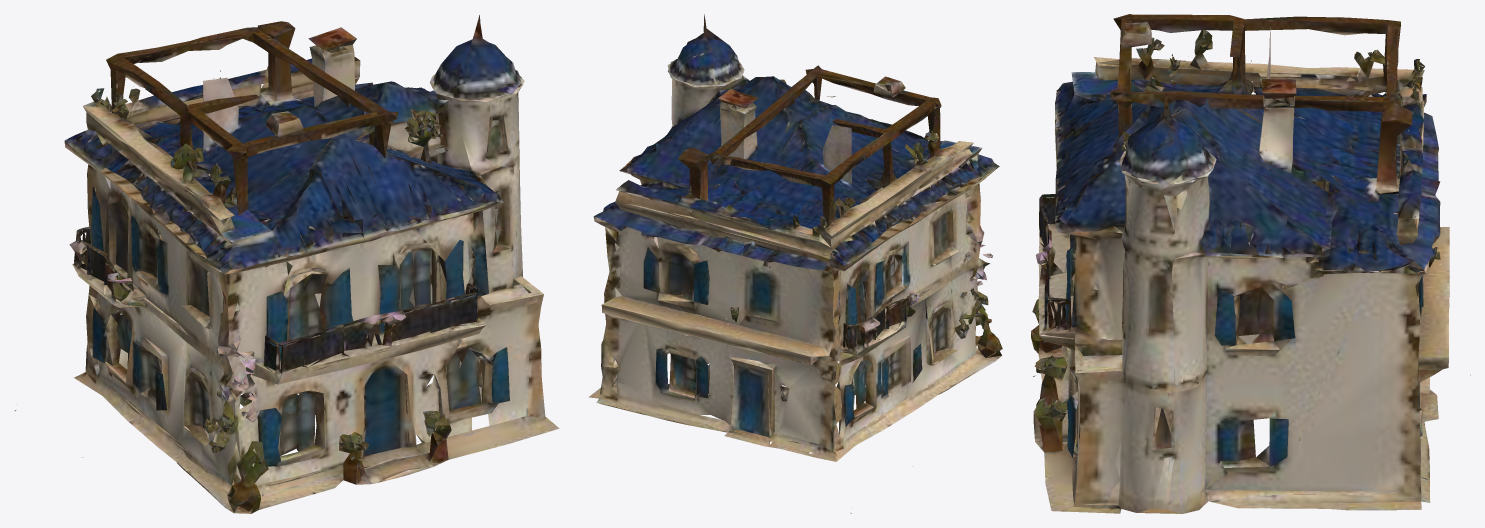
The picture shows the model from 3 angles, left to right: view 1: azimuth 30°, elevation 25°; view 2: azimuth 150°, elevation 25°; view 3: azimuth 270°, elevation 25°; orthographic projection. The views are drawn at different scales.
Visible parts, largest first — view 1: harbor__tower_2__neural_lod; view 2: harbor__tower_2__neural_lod; view 3: harbor__tower_2__neural_lod.
Boxes of the visible parts, x1,y1,x2,y2 form: harbor__tower_2__neural_lod: (14, 15, 559, 513); harbor__tower_2__neural_lod: (588, 14, 1002, 513); harbor__tower_2__neural_lod: (1031, 14, 1470, 513).
Size of the model in its own units: 0.8884 by 0.9843 by 0.8711.
1 material, 1 textured.
